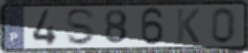0: (209, 6, 237, 46)
4: (31, 8, 60, 48)
6: (140, 6, 165, 46)
8: (103, 8, 130, 45)
K: (175, 8, 201, 45)
S: (64, 7, 98, 47)
